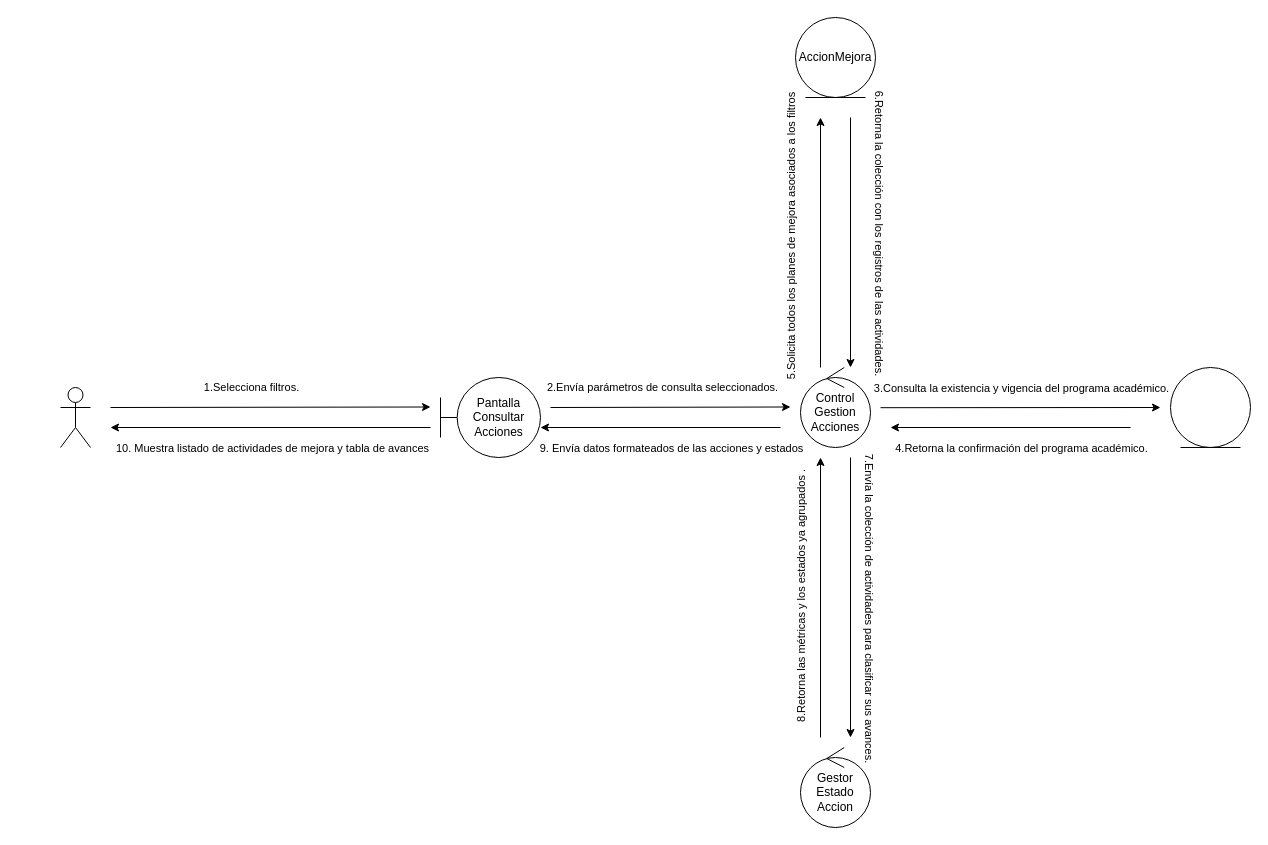
The diagram is 1268 pixels wide and 845 high, and some of its shapes have lost their labels. The shapes that lost their labels are listed below. From the top down, each one's centre as x and y in pixels, then its label:
At (75,417): "Personal Universitario".
At (1210,407): "Programa".
